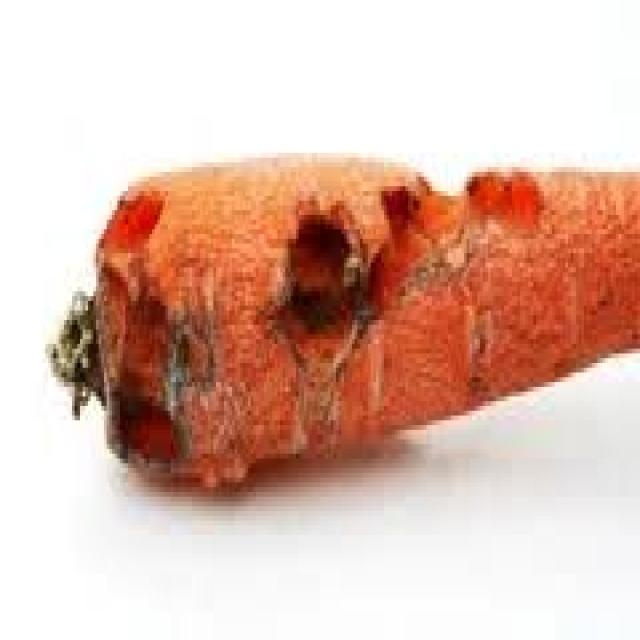Stale_Carrot: (96, 159, 640, 487)
